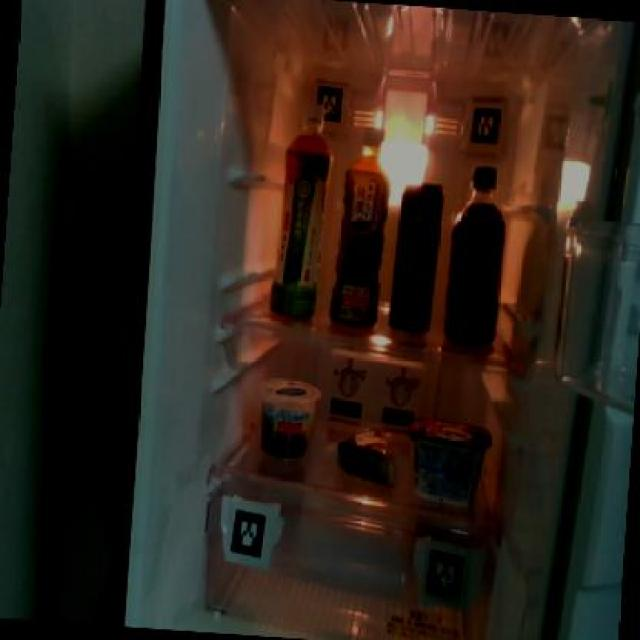coffee: (440, 155, 511, 351)
energy_drink: (385, 178, 447, 334)
pudding: (250, 371, 321, 457)
rice_ball: (333, 422, 395, 482)
tea_a: (326, 124, 397, 333)
tea_i: (264, 111, 334, 322)
yogurt: (406, 412, 496, 511)
